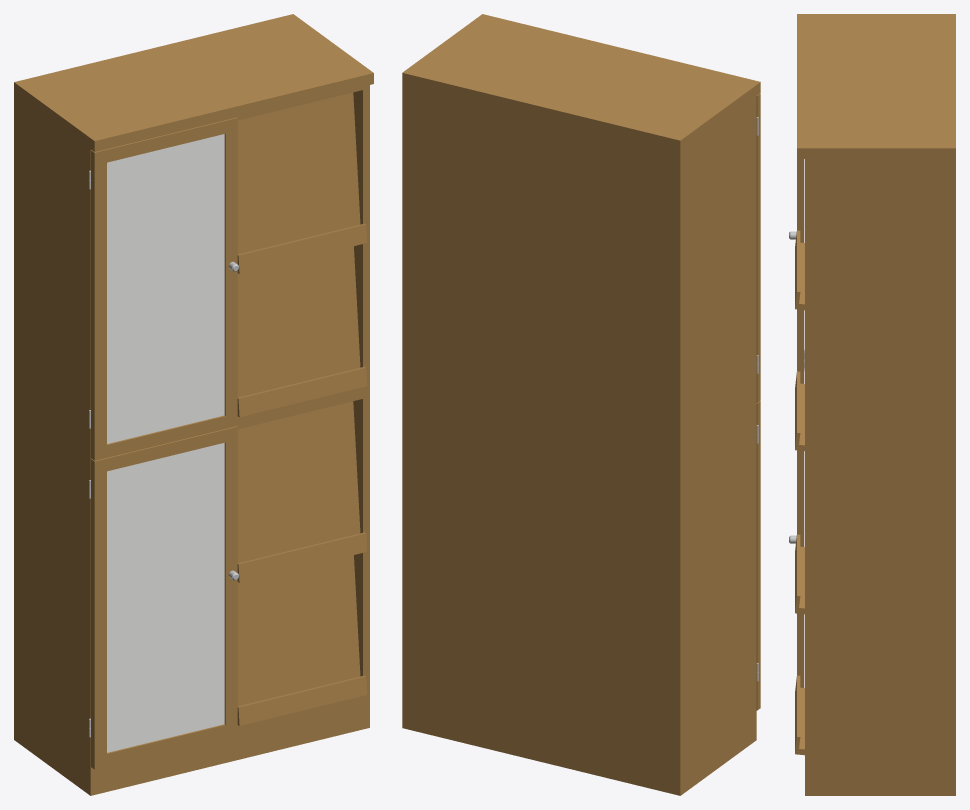
3 renders of one model, left to right at view 1: azimuth 30°, elevation 25°; view 2: azimuth 150°, elevation 25°; view 3: azimuth 270°, elevation 25°, orthographic.
Visible parts, largest first — view 1: Body, door1, door2; view 2: Body, door2, door1; view 3: Body, door2, door1.
Boxes of the visible parts, <box> form: Body: <box>14,14,373,795</box>; door1: <box>89,117,238,460</box>; door2: <box>89,426,238,769</box>; Body: <box>402,14,760,795</box>; door2: <box>756,401,760,710</box>; door1: <box>756,93,760,402</box>; Body: <box>795,14,955,795</box>; door2: <box>789,359,804,687</box>; door1: <box>789,159,804,383</box>.
Bounding box in the file's own units: 0.8045 × 1.8 × 0.42.
